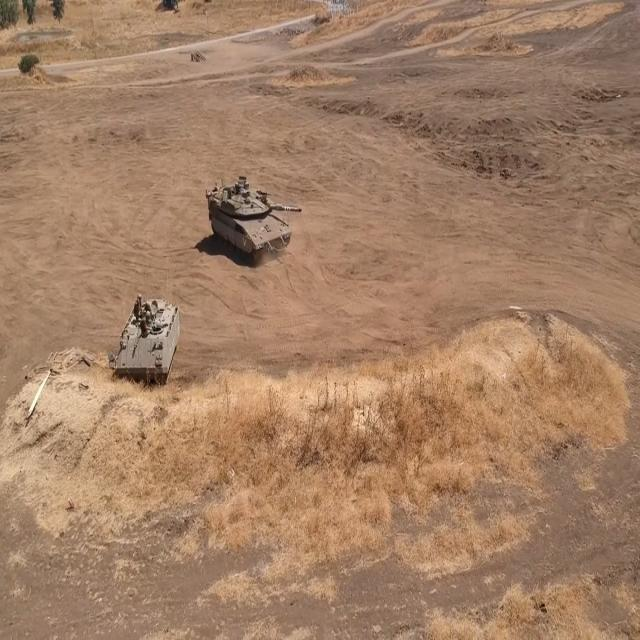tank: (202, 173, 306, 275)
